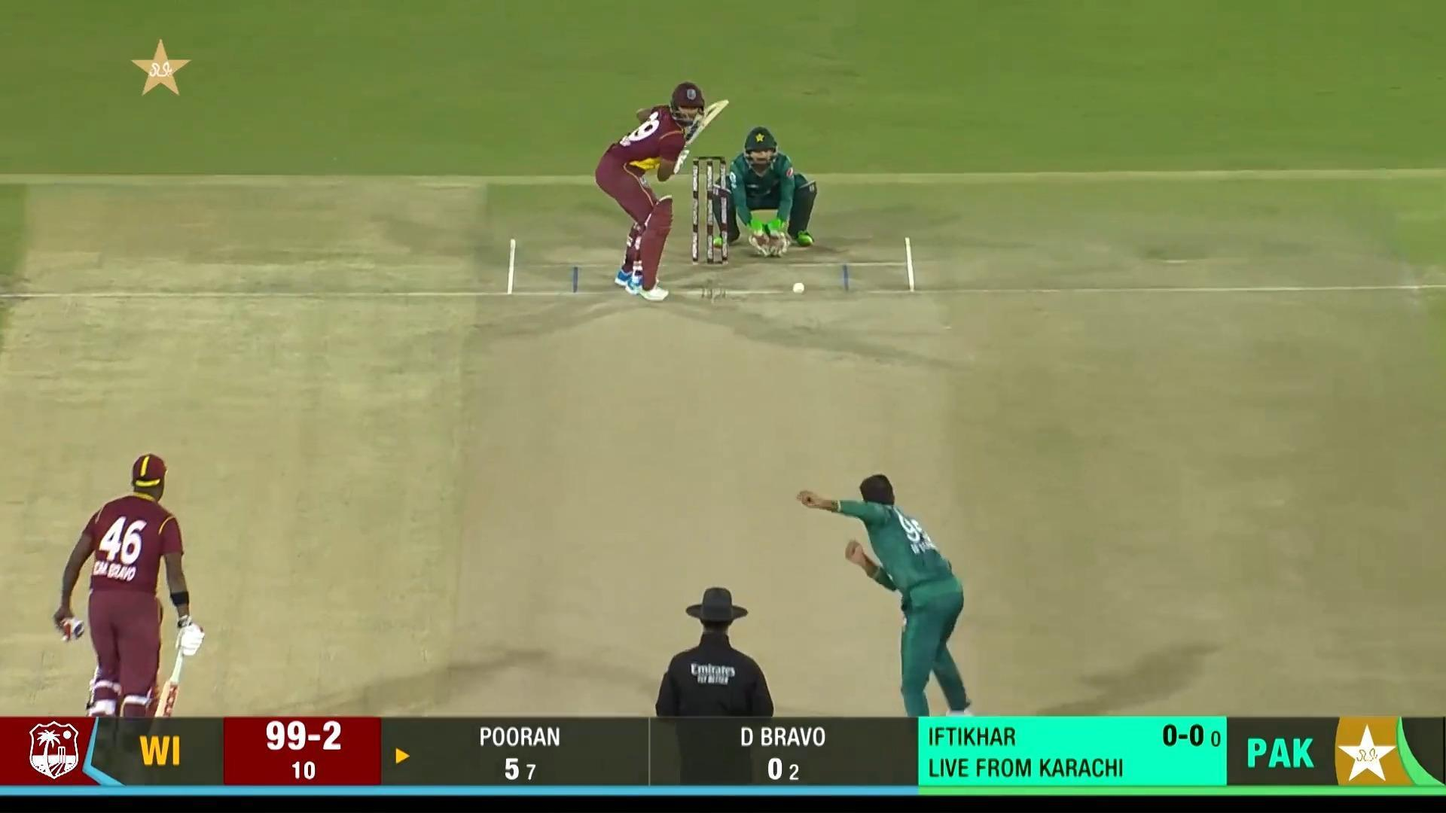BM 1: (595, 81, 731, 302)
BO: (798, 473, 973, 716)
